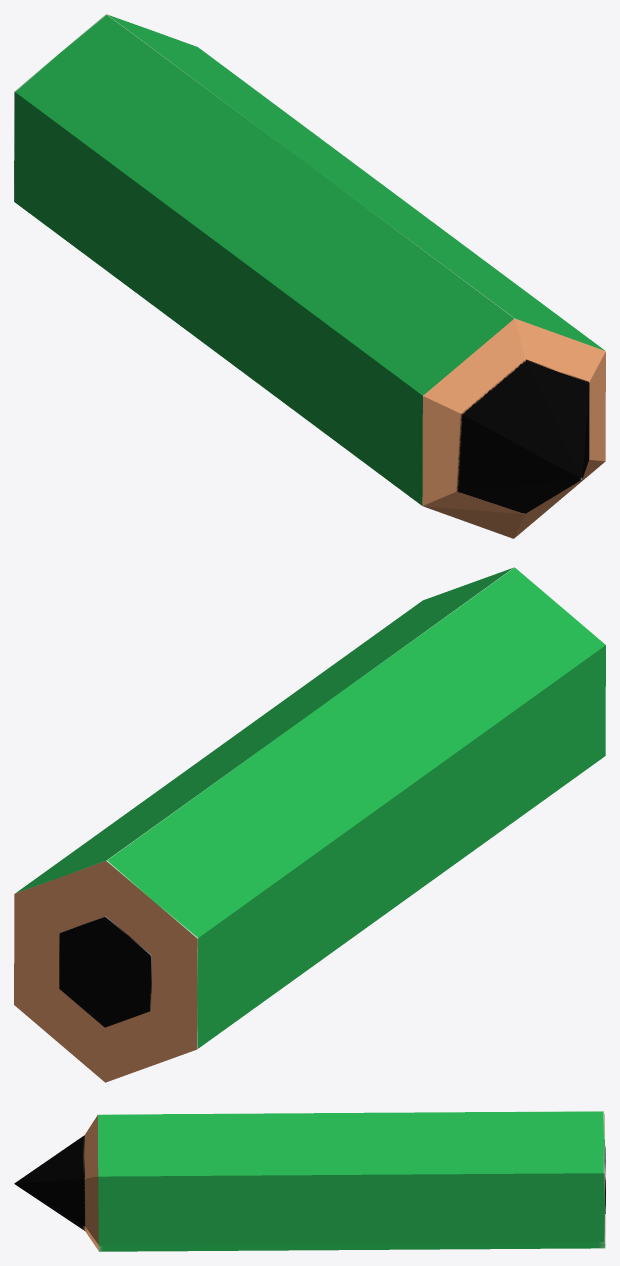
The model's file is SpeedNBullet.obj.
3 views of the same model, one above another, from view 1: azimuth 30°, elevation 25°; view 2: azimuth 150°, elevation 25°; view 3: azimuth 270°, elevation 25° (orthographic). The views are drawn at different scales.
Visible parts, largest first — view 1: 円柱; view 2: 円柱; view 3: 円柱.
Part boxes in pixels (left/top/right/bottom): 円柱: left=14, top=14, right=605, bottom=538; 円柱: left=14, top=567, right=605, bottom=1082; 円柱: left=14, top=1111, right=605, bottom=1251.
Size of the model in its own units: 0.3005 by 0.3554 by 1.36.
Materials: 1 (1 with a texture image).
